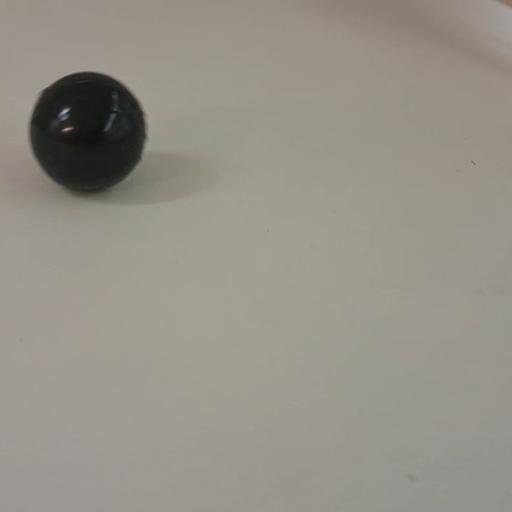dead: (26, 68, 152, 194)
